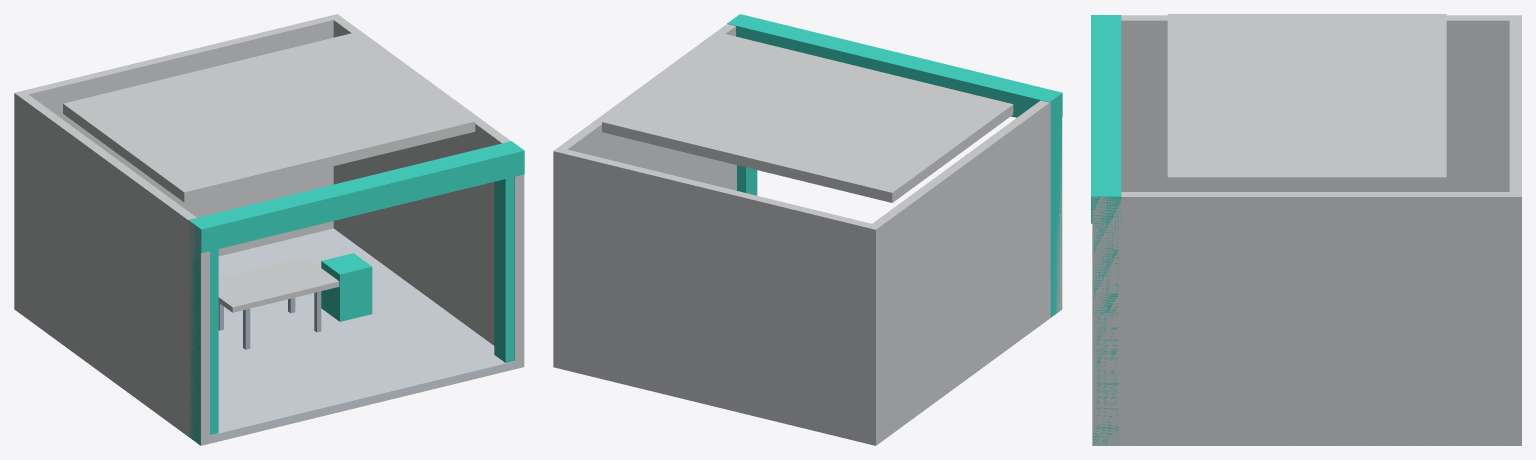
3 renders of one model, left to right at view 1: azimuth 30°, elevation 25°; view 2: azimuth 150°, elevation 25°; view 3: azimuth 270°, elevation 25°, orthographic. The views are drawn at different scales.
Parts seen in each view (by area): view 1: Exhibition Booth Concept; view 2: Exhibition Booth Concept; view 3: Exhibition Booth Concept.
Part boxes in pixels (x1,y1,x2,y2): Exhibition Booth Concept: (14, 14, 524, 445); Exhibition Booth Concept: (553, 14, 1062, 445); Exhibition Booth Concept: (1091, 14, 1521, 445).
Size of the model in its own units: 5 by 3.34 by 5.02.
